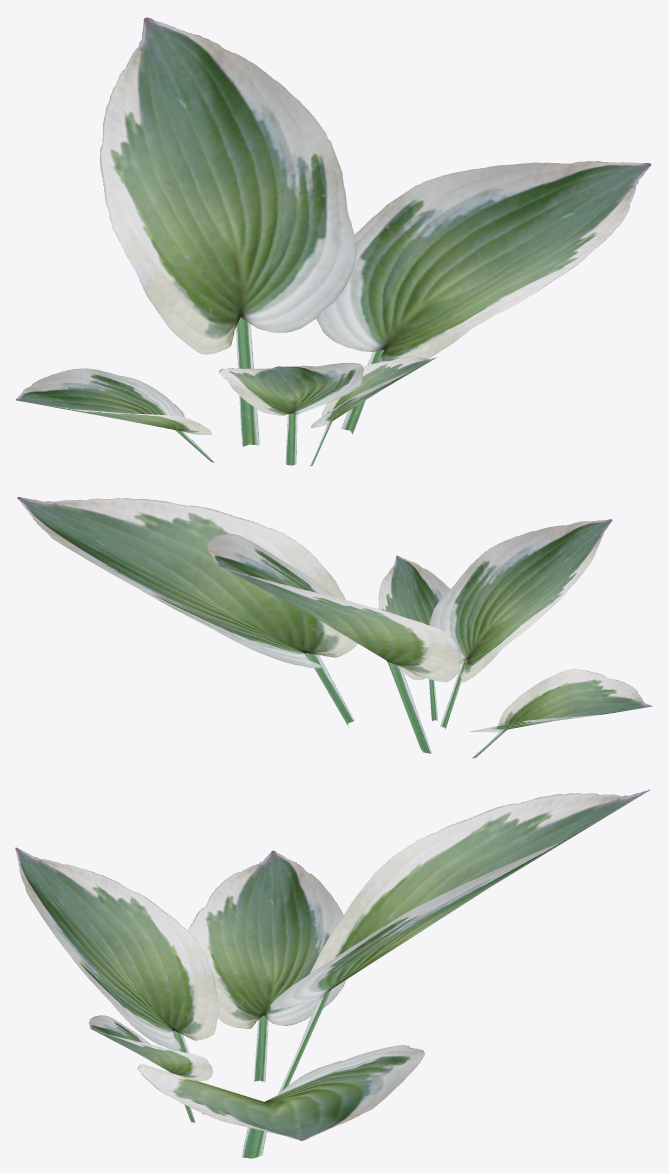
File: plant_small_wg_04S.fbx
3 renders of one model, top to bottom at view 1: azimuth 30°, elevation 25°; view 2: azimuth 150°, elevation 25°; view 3: azimuth 270°, elevation 25°, orthographic. The views are drawn at different scales.
Visible parts, largest first — view 1: plant_small_wg_04S; view 2: plant_small_wg_04S; view 3: plant_small_wg_04S.
Boxes of the visible parts, x1,y1,x2,y2 form: plant_small_wg_04S: [16, 17, 651, 466]; plant_small_wg_04S: [17, 497, 652, 758]; plant_small_wg_04S: [15, 790, 649, 1158].
Size of the model in its own units: 140 by 61.33 by 101.
